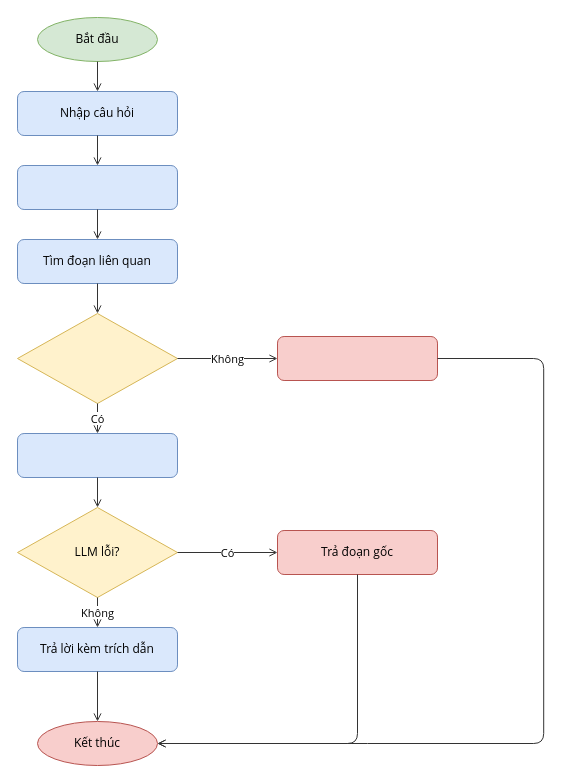
Some shapes in this 570 by 783 pixel diagram are drawn without their labels. The shapes that lost their labels are listed below. From the top down, each one's box as (x1, y1, x2, y2) in pixels, then its label:
(16, 164, 178, 210): Sinh vector câu hỏi
(16, 312, 178, 404): Điểm đủ ngưỡng?
(276, 336, 438, 380): Báo không tìm thấy
(16, 432, 178, 478): LLM tổng hợp
